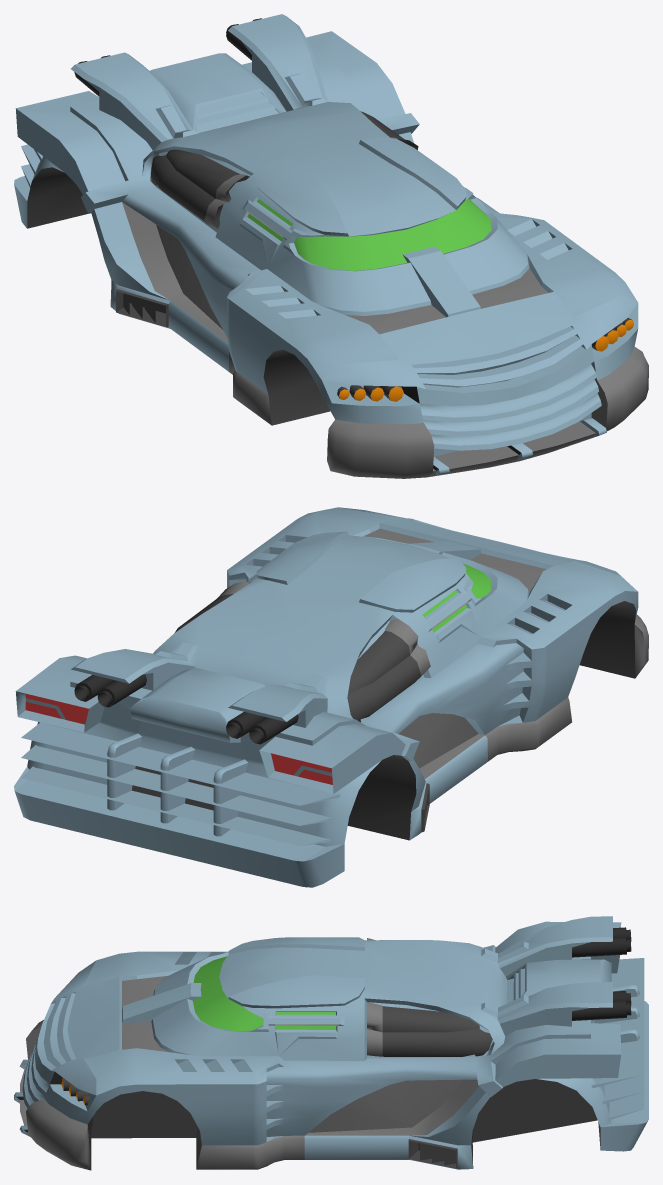
The model's file is agera.FBX.
3 views of the same model, one above another, from view 1: azimuth 30°, elevation 25°; view 2: azimuth 150°, elevation 25°; view 3: azimuth 270°, elevation 25° (orthographic). The views are drawn at different scales.
Visible parts, largest first — view 1: agera; view 2: agera; view 3: agera.
Part boxes in pixels (x1,y1,x2,y2): agera: (14, 14, 648, 478); agera: (14, 507, 648, 887); agera: (14, 916, 648, 1170).
Size of what is drawn, in the model's own units: 218 by 110 by 430.
